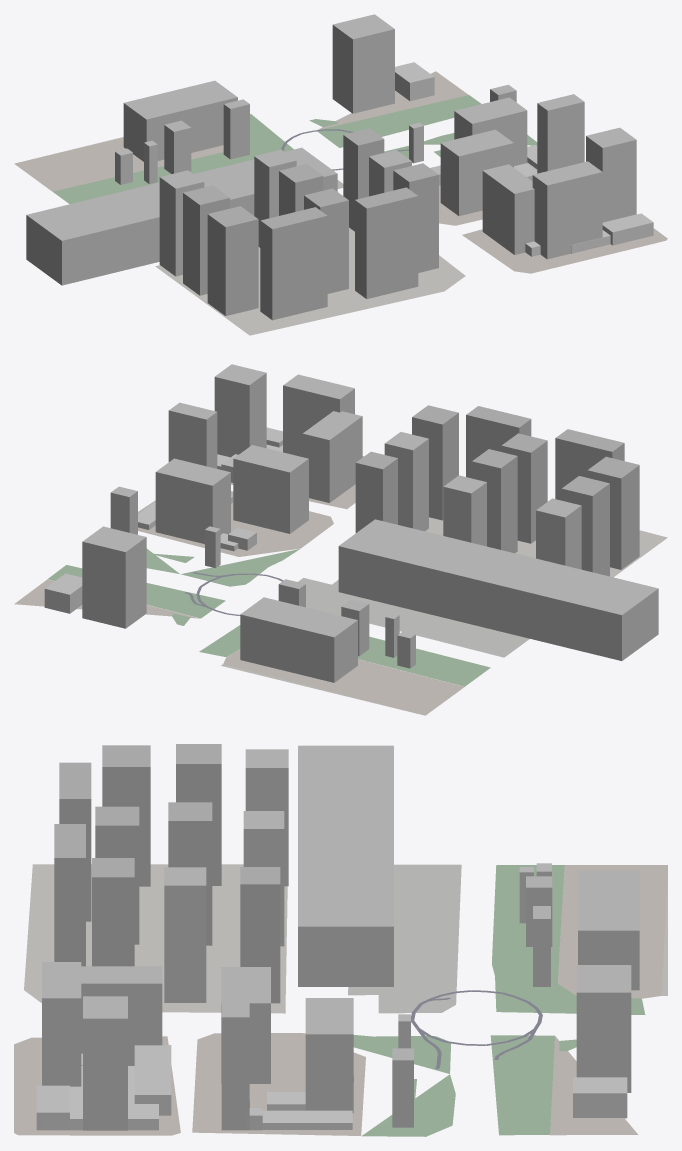
File: 118_84_mid.glb
The picture shows the model from 3 angles, top to bottom: view 1: azimuth 30°, elevation 25°; view 2: azimuth 150°, elevation 25°; view 3: azimuth 270°, elevation 25°; orthographic projection. The views are drawn at different scales.
Bounding box in the file's own units: 599 × 107 × 500.
